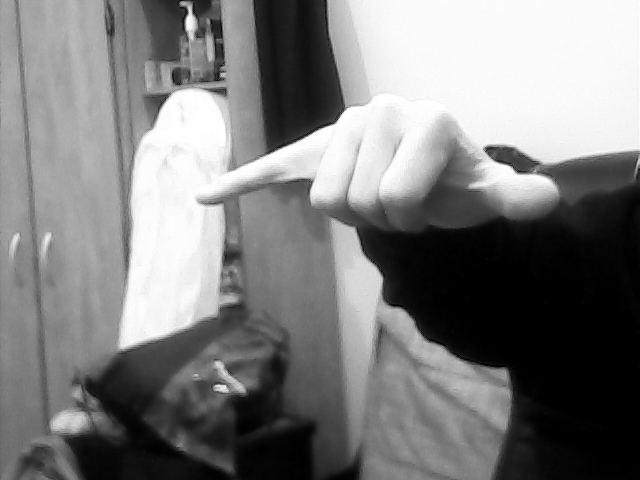aloha: (193, 81, 567, 238)
